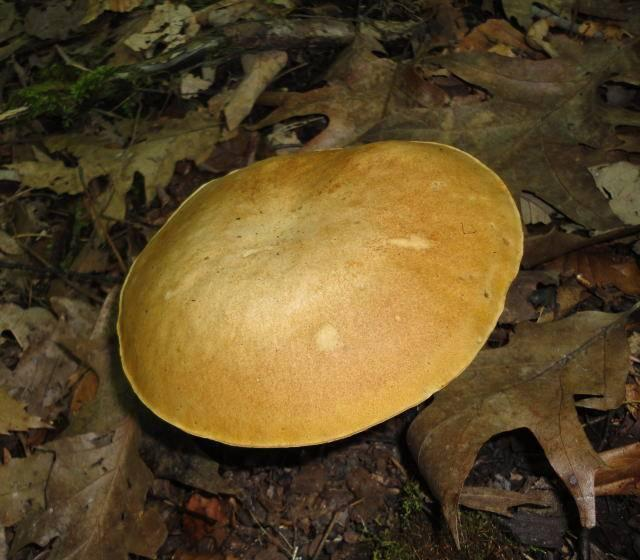Edible Mushroom: (114, 137, 525, 450)
